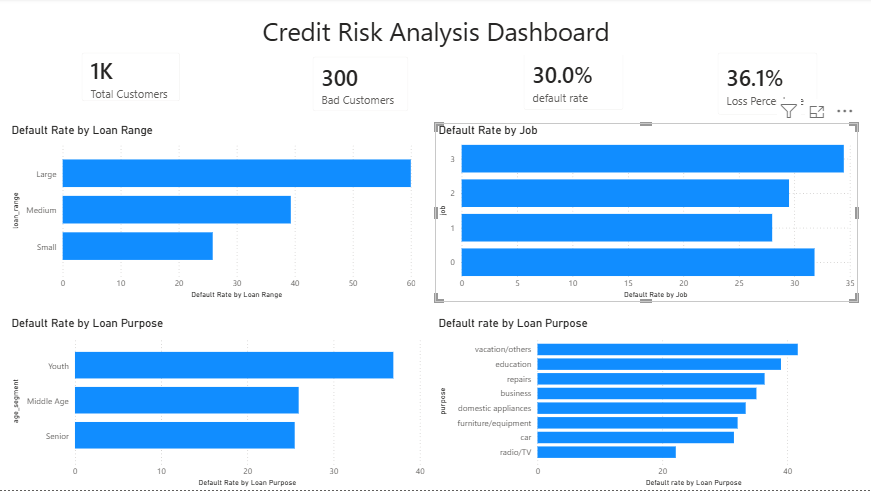

What the dashboard file says about the page in this screenshot:
{"tool":"powerbi","page":{"name":"Page 1","canvas":[1280,720],"ordinal":0},"visuals":[{"type":"cardVisual","fields":{"Data":["Sum(credit_project overall_portfolio_summary.total_customers)"]},"box":[105.4,62.9,178.5,105.4],"z":0},{"type":"cardVisual","fields":{"Data":["Sum(credit_project overall_portfolio_summary.bad_customers)"]},"box":[443.4,68.8,174.1,114.1],"z":1},{"type":"cardVisual","fields":{"Data":["Sum(credit_project overall_portfolio_summary.Correct_default_rate)"]},"box":[752.2,62.9,180,118.5],"z":2},{"type":"cardVisual","fields":{"Data":["Sum(credit_project overall_portfolio_summary.Loss Percentage)"]},"box":[1036.1,62.9,180,125.9],"z":3},{"type":"clusteredBarChart","title":" Default Rate by Loan Range  ","fields":{"Category":["credit_project loan_range_risk_summary.loan_range"],"Y":["Avg(credit_project loan_range_risk_summary.default_rate)"]},"box":[14.6,182.9,601.5,262],"z":4},{"type":"barChart","title":" Default Rate by Loan Purpose ","fields":{"Category":["credit_project age_segment_risk_summary.age_segment"],"Y":["Avg(credit_project age_segment_risk_summary.default_rate)"]},"box":[14.6,465.4,614.6,254.6],"z":5},{"type":"barChart","title":"Default Rate by Job","fields":{"Category":["credit_project job_risk_summary.job"],"Y":["Avg(credit_project job_risk_summary.default_rate)"]},"box":[639.5,182.9,619,262],"z":6},{"type":"barChart","title":" Default rate by Loan Purpose","fields":{"Category":["credit_project purpose_risk_summary.purpose"],"Y":["Avg(credit_project purpose_risk_summary.default_rate)"]},"box":[639.5,465.4,619,254.6],"z":7},{"type":"textbox","box":[283.9,17.6,714.1,65.9],"z":8}]}

Visuals, with their boxes in screenshot pixels (x1, y1, x2, y2), scaled from the page's 1280x720 canvas onto the 871x491 screenshot:
cardVisual - Sum(credit_project overall_portfolio_summary.total_customers): left=72, top=43, right=193, bottom=115
cardVisual - Sum(credit_project overall_portfolio_summary.bad_customers): left=302, top=47, right=420, bottom=125
cardVisual - Sum(credit_project overall_portfolio_summary.Correct_default_rate): left=512, top=43, right=634, bottom=124
cardVisual - Sum(credit_project overall_portfolio_summary.Loss Percentage): left=705, top=43, right=828, bottom=129
" Default Rate by Loan Range  " clusteredBarChart: left=10, top=125, right=419, bottom=303
" Default Rate by Loan Purpose " barChart: left=10, top=317, right=428, bottom=490
"Default Rate by Job" barChart: left=435, top=125, right=856, bottom=303
" Default rate by Loan Purpose" barChart: left=435, top=317, right=856, bottom=490
textbox: left=193, top=12, right=679, bottom=57
